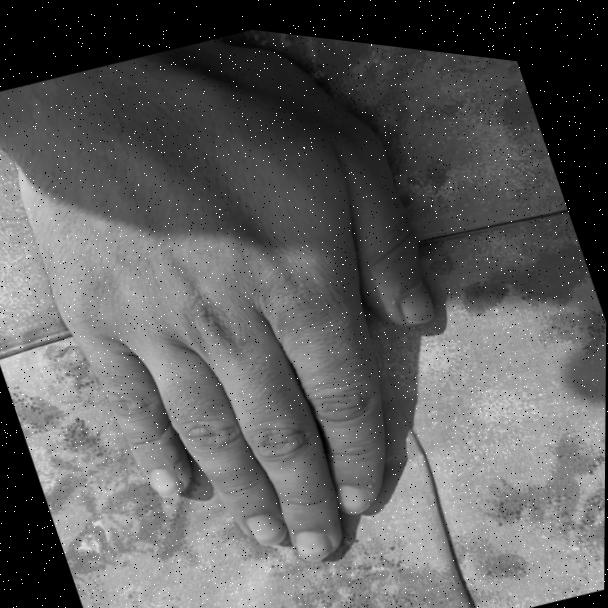five: (2, 7, 531, 608)
